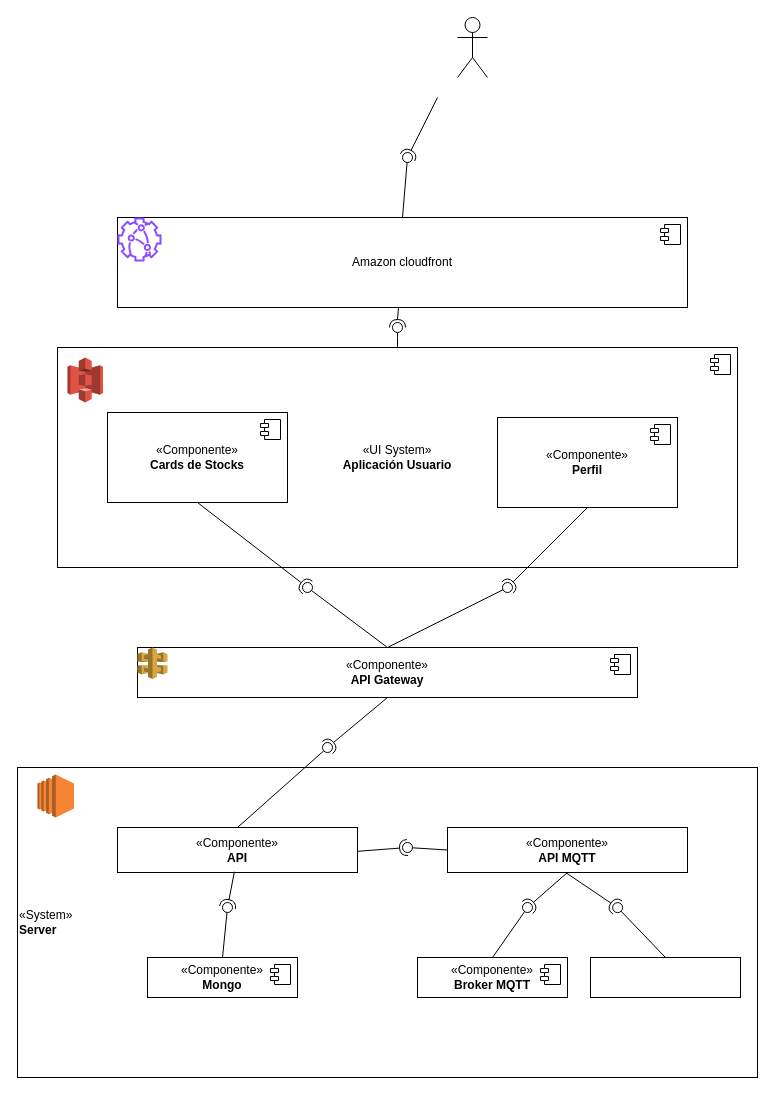
The diagram is 775 pixels wide and 1095 high, and some of its shapes have lost their labels. The shapes that lost their labels are listed below. From the top down, each one's centre as x and y in pixels, then its label:
pixel 472 47: Usuario
pixel 665 977: «Componente» Publisher MQTT
